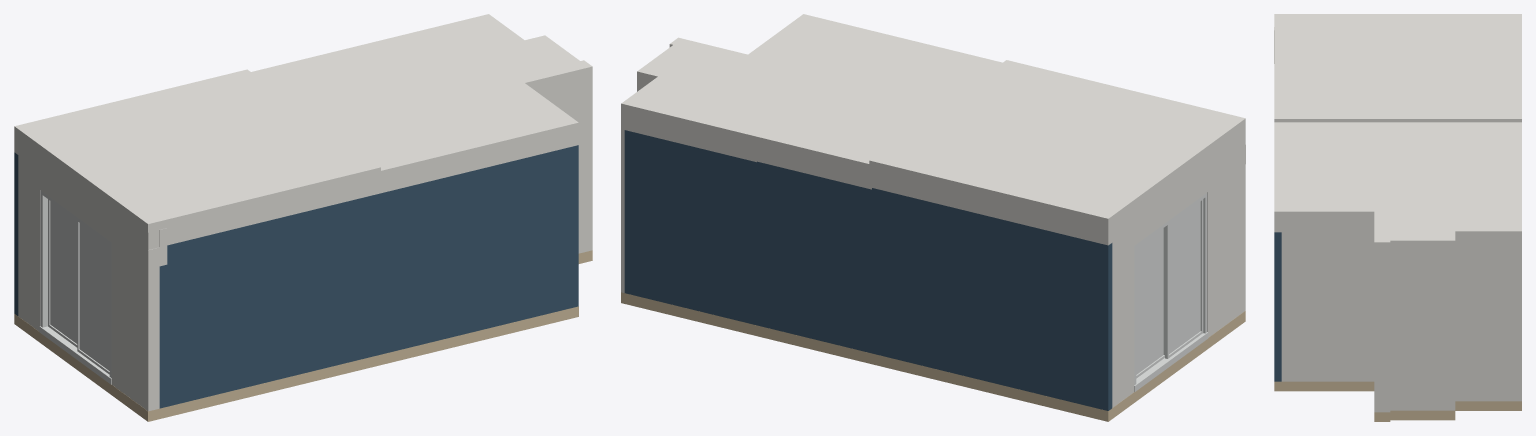
Rendered from gs-cfd-blender-model.glb.
3 views of the same model, side by side, from view 1: azimuth 30°, elevation 25°; view 2: azimuth 150°, elevation 25°; view 3: azimuth 270°, elevation 25° (orthographic). The views are drawn at different scales.
Visible parts, largest first — view 1: 南壁_LDK_ソリッド, 天井_寝室_ソリッド, 南壁_寝室_ソリッド, 天井_LDK_ソリッド, 窓_枠と閉鎖ガラス, 西壁_窓左_ソリッド, 床_ソリッド, 上部_Bedroom_Upper_Wall_South_ソリッド, 西壁_窓右_ソリッド, 東壁_入口下_ソリッド, 上部_ProjectionWall_Long_Beam_ソリッド, 上部_Bedroom_Upper_Wall_West_ソリッド (+4 smaller); view 2: 北壁_寝室収納側_ソリッド, 天井_寝室_ソリッド, 天井_LDK_ソリッド, 北壁_キッチン_ソリッド, 窓_枠と閉鎖ガラス, 床_ソリッド, 西壁_窓左_ソリッド, 上部_Bedroom_Upper_Wall_North_ソリッド, 西壁_窓右_ソリッド, 上部_Bedroom_Upper_Wall_West_ソリッド, 上部_キッチン段差_ソリッド, 上部_Kitchen_Long_Soffit_ソリッド (+2 smaller); view 3: 天井_LDK_ソリッド, 天井_寝室_ソリッド, 東壁_収納横_ソリッド, 東壁_キッチン端_ソリッド, 入口壁_戸当り_ソリッド, 床_ソリッド, 入口壁_短辺_ソリッド, 南壁_LDK_ソリッド, 上部_LDK_Upper_Wall.001_ソリッド, 上部_LDK_Upper_Wall.010_ソリッド, 上部_LDK_Upper_Wall.013_ソリッド, 東壁_入口上_ソリッド (+1 smaller).
Part boxes in pixels (x1=…): 南壁_LDK_ソリッド: x1=367, y1=145, x2=578, y2=357; 天井_寝室_ソリッド: x1=14, y1=69, x2=380, y2=232; 南壁_寝室_ソリッド: x1=159, y1=196, x2=367, y2=408; 天井_LDK_ソリッド: x1=251, y1=14, x2=592, y2=179; 窓_枠と閉鎖ガラス: x1=39, y1=190, x2=111, y2=384; 西壁_窓左_ソリッド: x1=111, y1=223, x2=159, y2=411; 床_ソリッド: x1=14, y1=250, x2=592, y2=421; 上部_Bedroom_Upper_Wall_South_ソリッド: x1=144, y1=176, x2=380, y2=249; 西壁_窓右_ソリッド: x1=18, y1=155, x2=40, y2=331; 東壁_入口下_ソリッド: x1=548, y1=89, x2=591, y2=253; 上部_ProjectionWall_Long_Beam_ソリッド: x1=381, y1=131, x2=578, y2=190; 上部_Bedroom_Upper_Wall_West_ソリッド: x1=18, y1=138, x2=144, y2=246; 北壁_寝室収納側_ソリッド: x1=750, y1=161, x2=1112, y2=410; 天井_寝室_ソリッド: x1=869, y1=60, x2=1245, y2=227; 天井_LDK_ソリッド: x1=621, y1=14, x2=1002, y2=173; 北壁_キッチン_ソリッド: x1=624, y1=130, x2=750, y2=323; 窓_枠と閉鎖ガラス: x1=1134, y1=193, x2=1208, y2=391; 床_ソリッド: x1=621, y1=292, x2=1245, y2=421; 西壁_窓左_ソリッド: x1=1207, y1=145, x2=1245, y2=337; 上部_Bedroom_Upper_Wall_North_ソリッド: x1=869, y1=170, x2=1112, y2=245; 西壁_窓右_ソリッド: x1=1112, y1=227, x2=1134, y2=407; 上部_Bedroom_Upper_Wall_West_ソリッド: x1=1112, y1=130, x2=1241, y2=241; 上部_キッチン段差_ソリッド: x1=624, y1=113, x2=756, y2=162; 上部_Kitchen_Long_Soffit_ソリッド: x1=757, y1=145, x2=871, y2=189; 天井_LDK_ソリッド: x1=1274, y1=122, x2=1521, y2=249; 天井_寝室_ソリッド: x1=1274, y1=14, x2=1521, y2=122; 東壁_収納横_ソリッド: x1=1281, y1=232, x2=1374, y2=381; 東壁_キッチン端_ソリッド: x1=1455, y1=252, x2=1521, y2=401; 入口壁_戸当り_ソリッド: x1=1390, y1=261, x2=1452, y2=410; 床_ソリッド: x1=1274, y1=381, x2=1521, y2=421; 入口壁_短辺_ソリッド: x1=1374, y1=263, x2=1390, y2=412; 南壁_LDK_ソリッド: x1=1274, y1=232, x2=1281, y2=381; 上部_LDK_Upper_Wall.001_ソリッド: x1=1281, y1=219, x2=1374, y2=232; 上部_LDK_Upper_Wall.010_ソリッド: x1=1455, y1=239, x2=1521, y2=252; 上部_LDK_Upper_Wall.013_ソリッド: x1=1390, y1=248, x2=1452, y2=261; 東壁_入口上_ソリッド: x1=1452, y1=261, x2=1455, y2=410.
Bounding box in the file's own units: 7.44 × 2.82 × 3.46.
